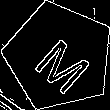M_NE: (24, 22, 94, 91)
